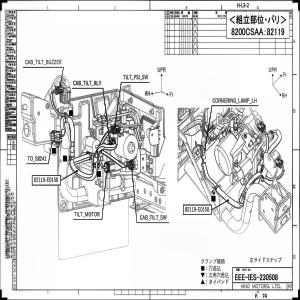PartNumber: (34, 176, 59, 183), (184, 206, 209, 213)
